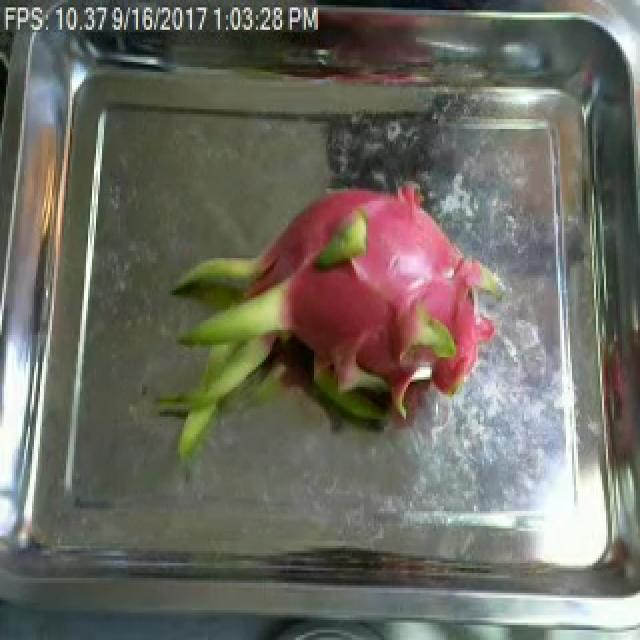fruit: (140, 146, 502, 486)
